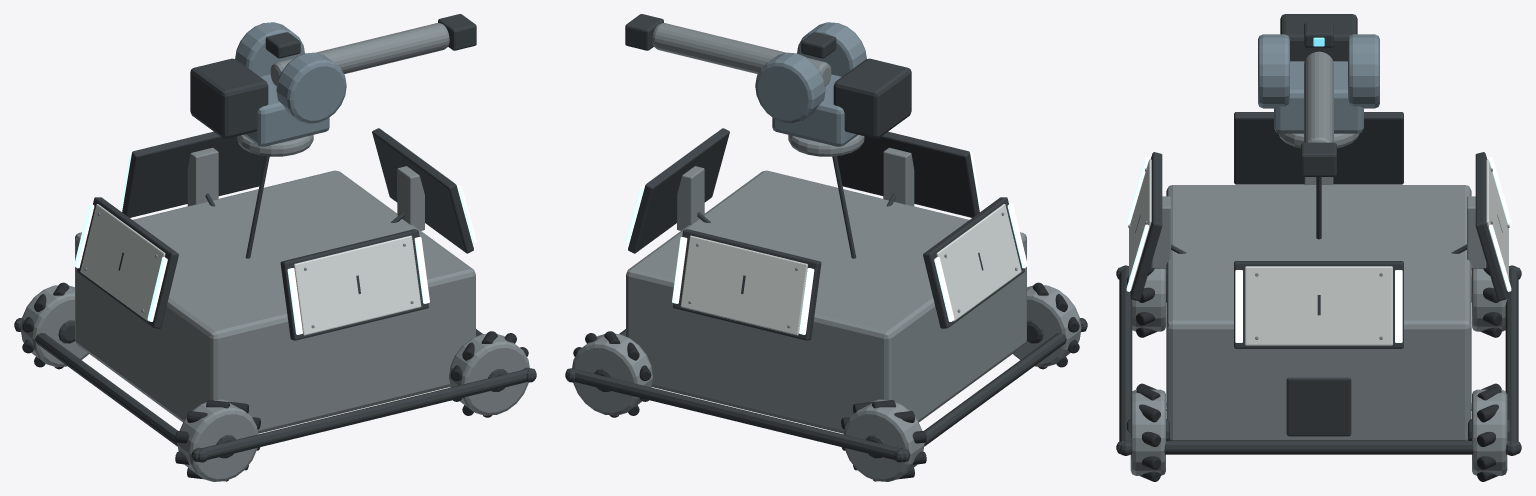
File: robot-1-spec2026.glb
3 renders of one model, left to right at view 1: azimuth 30°, elevation 25°; view 2: azimuth 150°, elevation 25°; view 3: azimuth 270°, elevation 25°, orthographic. The views are drawn at different scales.
Parts seen in each view (by area): view 1: Chassis_RobotMatteAluminum, Chassis_RobotMatteGraphite, Chassis_CeramicPanels, GunPitch_TeamPrimaryShell, Turret_RobotMatteGraphite, MecanumHub, MecanumHub.002, MatteAluminumBarrel, MecanumHub.001, Chassis_TeamGlow, GimbalCheeks, GunPitch_RobotMatteGraphite (+4 smaller); view 2: Chassis_RobotMatteAluminum, Chassis_RobotMatteGraphite, Chassis_CeramicPanels, GunPitch_TeamPrimaryShell, Turret_RobotMatteGraphite, MecanumHub.001, MecanumHub.003, MatteAluminumBarrel, MecanumHub, Chassis_TeamGlow, GimbalCheeks, GunPitch_RobotMatteGraphite (+4 smaller); view 3: Chassis_RobotMatteAluminum, Chassis_RobotMatteGraphite, Chassis_CeramicPanels, GunPitch_TeamPrimaryShell, GimbalCheeks, Turret_RobotMatteGraphite, MatteAluminumBarrel, Chassis_TeamGlow, MecanumHub.002, MecanumHub.003, GunPitch_RobotMatteGraphite, MecanumHub (+6 smaller).
Boxes of the visible parts, <box> form: Chassis_RobotMatteAluminum: <box>75,147,475,433</box>; Chassis_RobotMatteGraphite: <box>14,128,536,462</box>; Chassis_CeramicPanels: <box>80,133,453,335</box>; GunPitch_TeamPrimaryShell: <box>235,22,346,123</box>; Turret_RobotMatteGraphite: <box>190,58,269,258</box>; MecanumHub: <box>177,399,258,481</box>; MecanumHub.002: <box>449,333,529,415</box>; MatteAluminumBarrel: <box>270,23,449,86</box>; MecanumHub.001: <box>20,285,88,367</box>; Chassis_TeamGlow: <box>74,131,476,334</box>; GimbalCheeks: <box>243,74,329,146</box>; GunPitch_RobotMatteGraphite: <box>265,14,476,58</box>; Chassis_RobotMatteAluminum: <box>626,147,1026,433</box>; Chassis_RobotMatteGraphite: <box>565,128,1087,462</box>; Chassis_CeramicPanels: <box>648,133,1021,335</box>; GunPitch_TeamPrimaryShell: <box>755,22,866,123</box>; Turret_RobotMatteGraphite: <box>832,58,911,258</box>; MecanumHub.001: <box>843,399,924,481</box>; MecanumHub.003: <box>572,333,652,415</box>; MatteAluminumBarrel: <box>652,23,831,86</box>; MecanumHub: <box>1013,285,1081,367</box>; Chassis_TeamGlow: <box>625,131,1027,334</box>; GimbalCheeks: <box>772,74,858,146</box>; GunPitch_RobotMatteGraphite: <box>625,14,836,58</box>; Chassis_RobotMatteAluminum: <box>1128,168,1509,440</box>; Chassis_RobotMatteGraphite: <box>1116,112,1521,455</box>; Chassis_CeramicPanels: <box>1129,159,1508,345</box>; GunPitch_TeamPrimaryShell: <box>1258,34,1379,108</box>; GimbalCheeks: <box>1274,61,1363,133</box>; Turret_RobotMatteGraphite: <box>1280,14,1357,239</box>; MatteAluminumBarrel: <box>1304,51,1333,142</box>; Chassis_TeamGlow: <box>1126,157,1511,342</box>; MecanumHub.002: <box>1130,389,1165,475</box>; MecanumHub.003: <box>1472,389,1507,475</box>; GunPitch_RobotMatteGraphite: <box>1301,23,1336,176</box>; MecanumHub: <box>1130,268,1165,331</box>.
Size of the model in its own units: 0.7229 by 0.6507 by 0.63.
